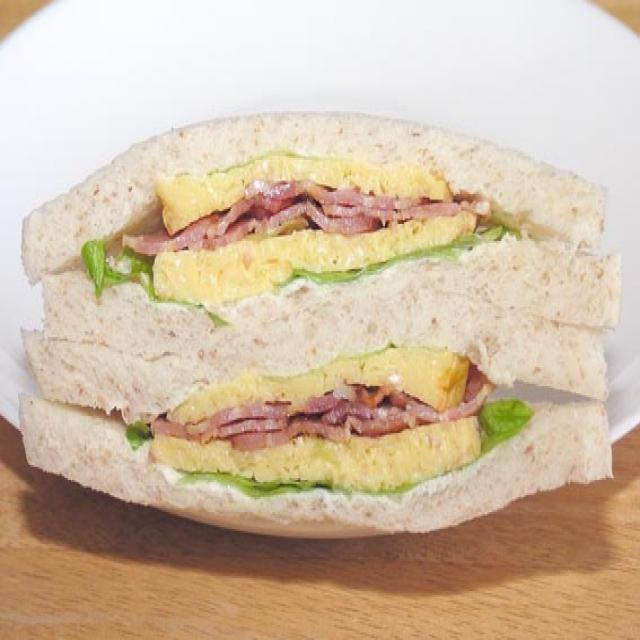三明治: (18, 105, 613, 531)
